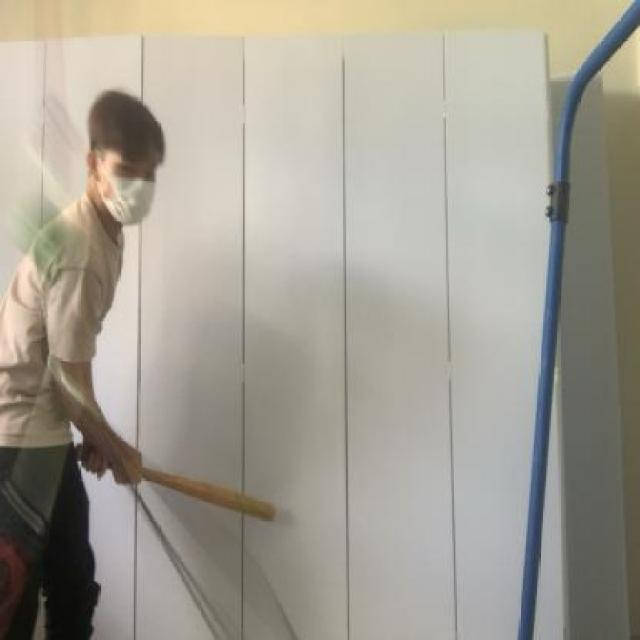baseball: (0, 162, 92, 303)
